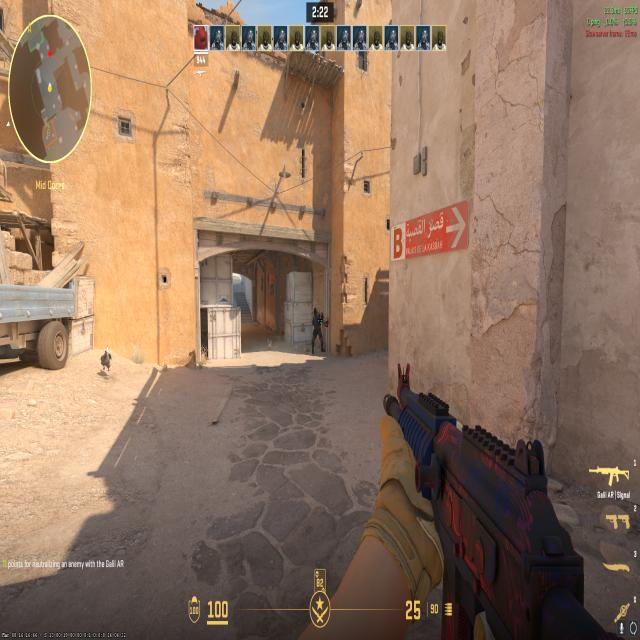ct: (309, 301, 324, 357)
